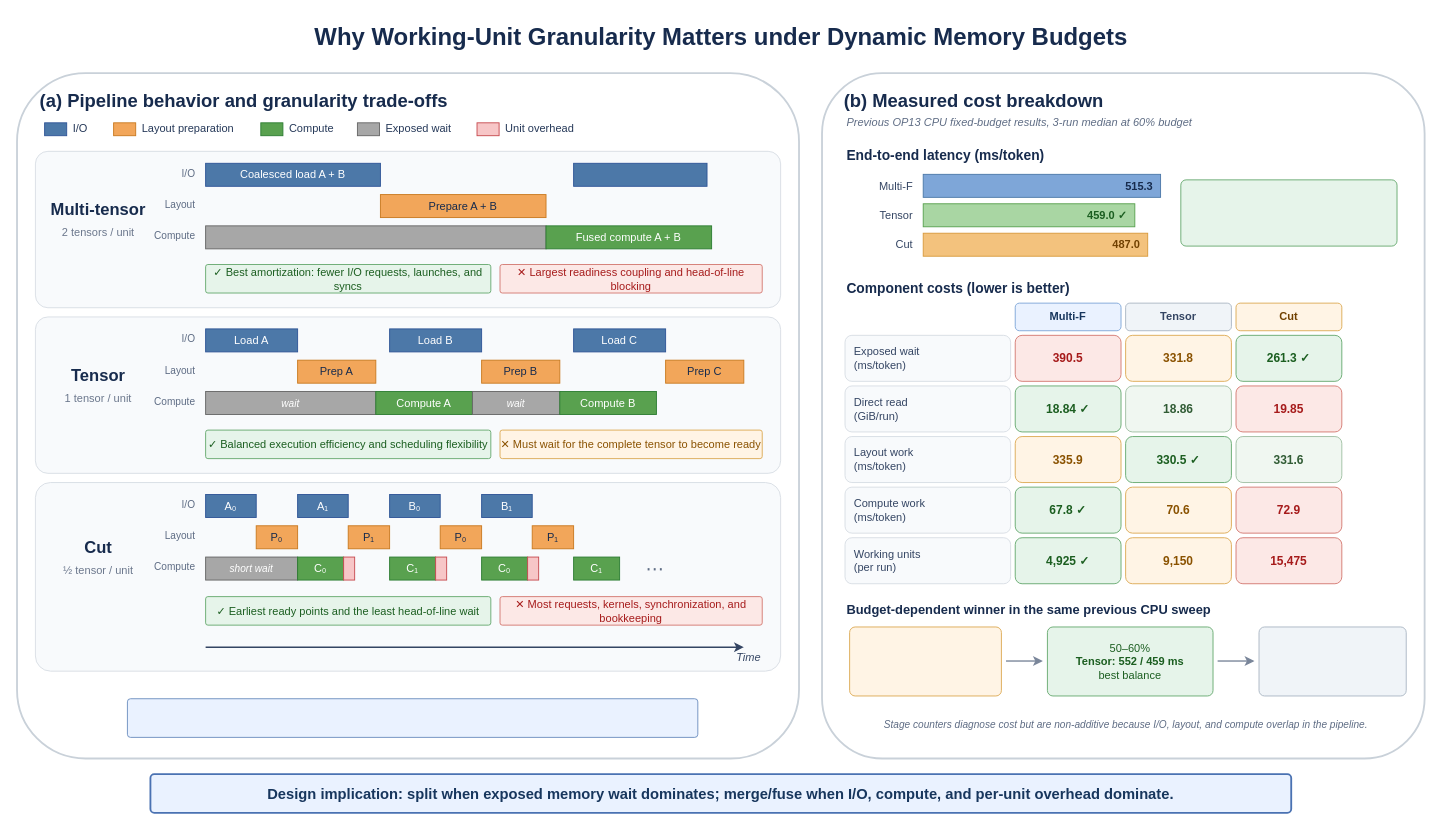
The diagram is 1441 pixels wide and 829 high, and some of its shapes have lost their labels. Here are the shapes that lost their labels. From the top down, the centre of each, then its label:
(x=640, y=174): Load C + D
(x=1288, y=212): Tensor wins by balancing pipeline wait and execution overhead.
(x=375, y=237): wait until both tensors are ready
(x=925, y=661): 30% Cut: 752 ms wait dominates
(x=1332, y=661): 90% Cut ≈ Tensor: 140 ms wait benefit ≈ overhead
(x=412, y=717): Coarser units improve amortization; finer units improve pipeline schedulability.
